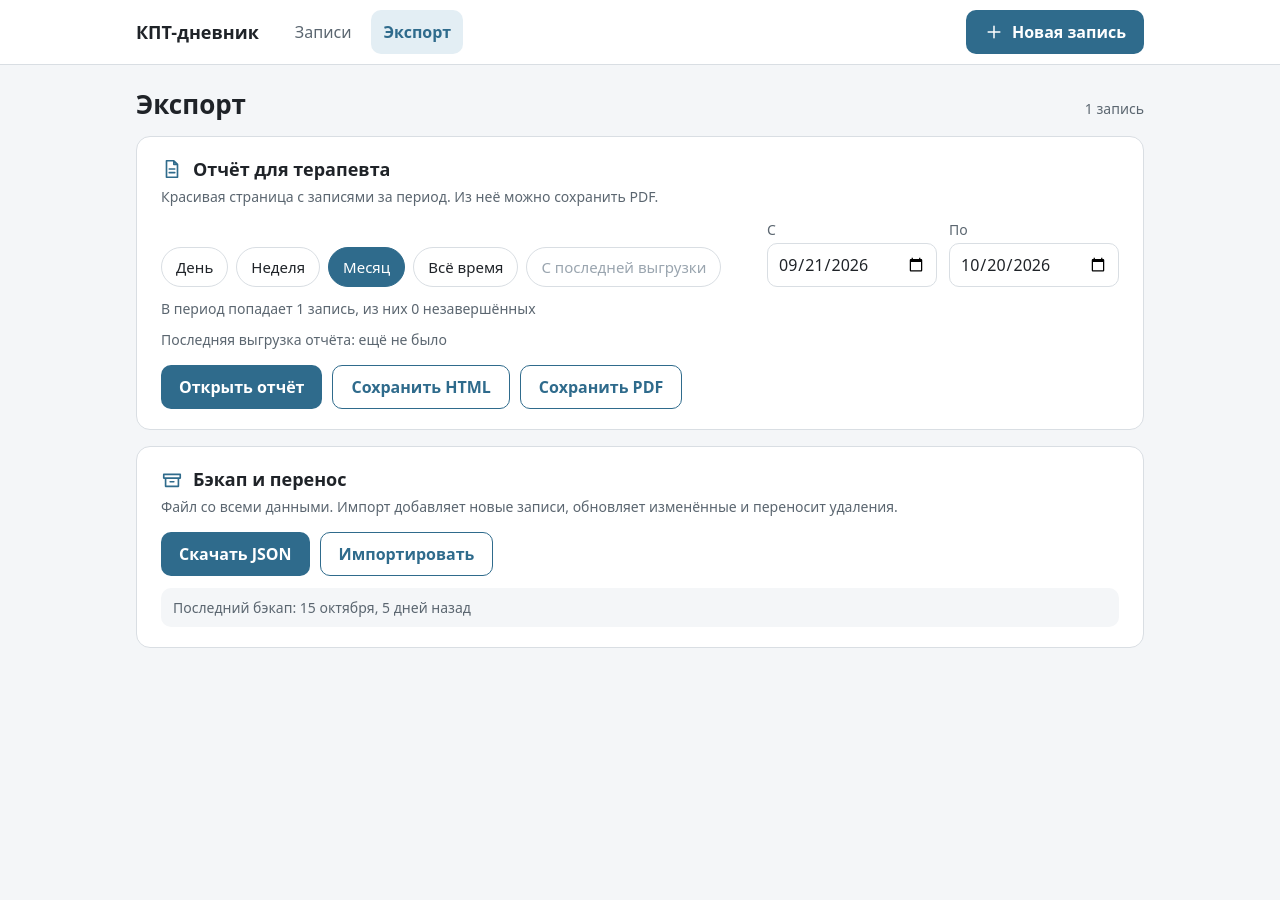
it: backup download sets last backup
Expected: the text "Последний бэкап: 15 октября, 5 дней назад" is shown, [161,588,1119,627]
Click the button "Скачать JSON" at (235, 554), box [161,532,310,576]
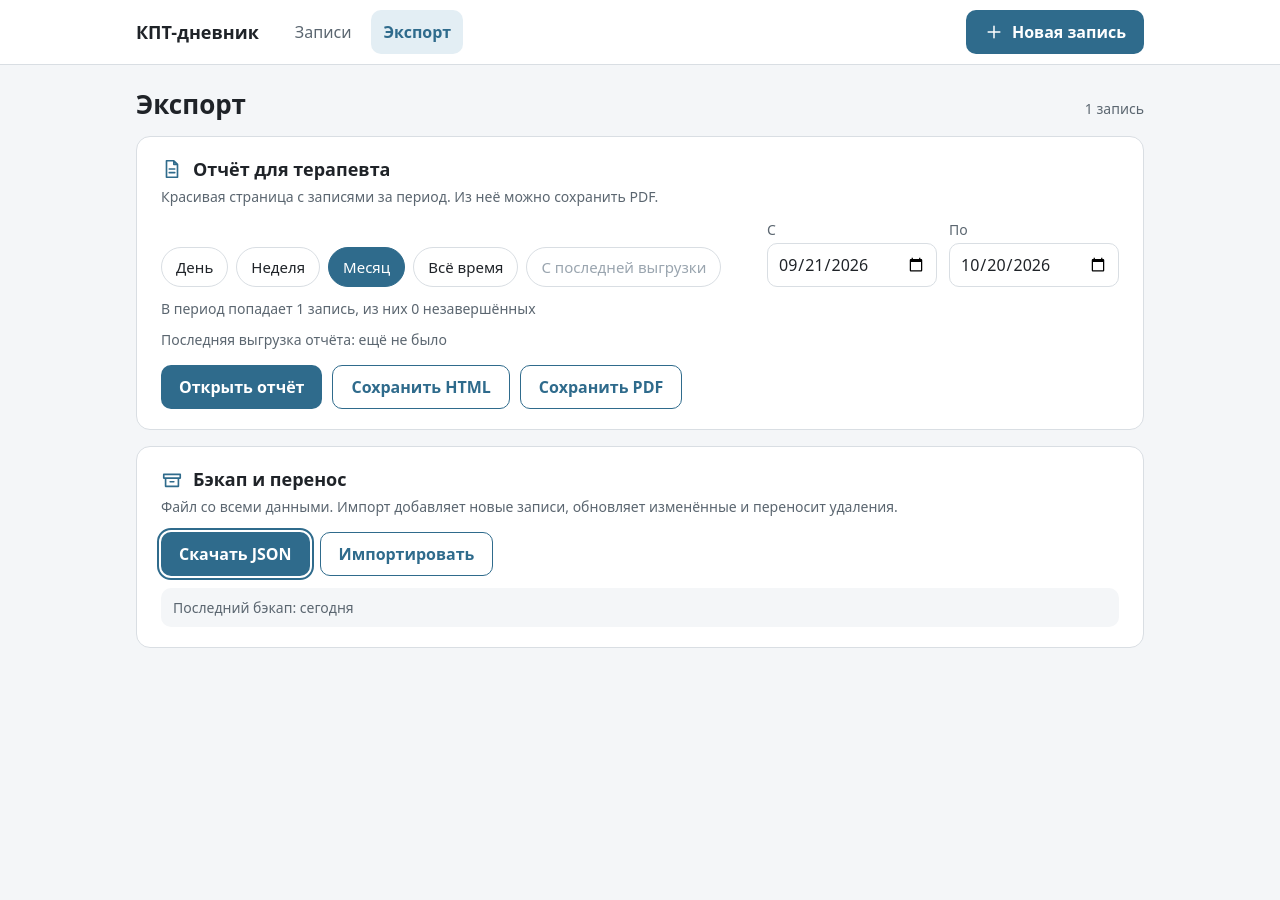
Result: the text "Последний бэкап: сегодня" is shown at [161,588,1119,627]
